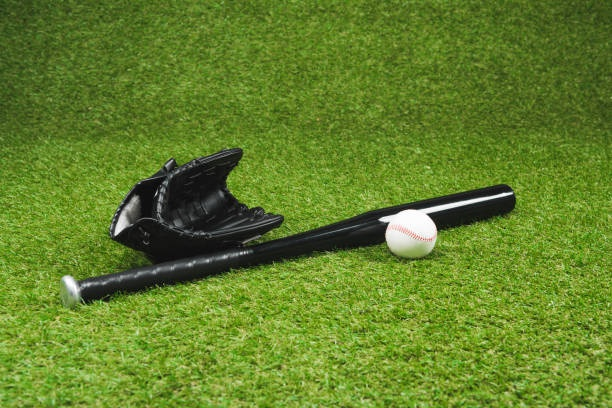bita: (58, 181, 517, 307)
